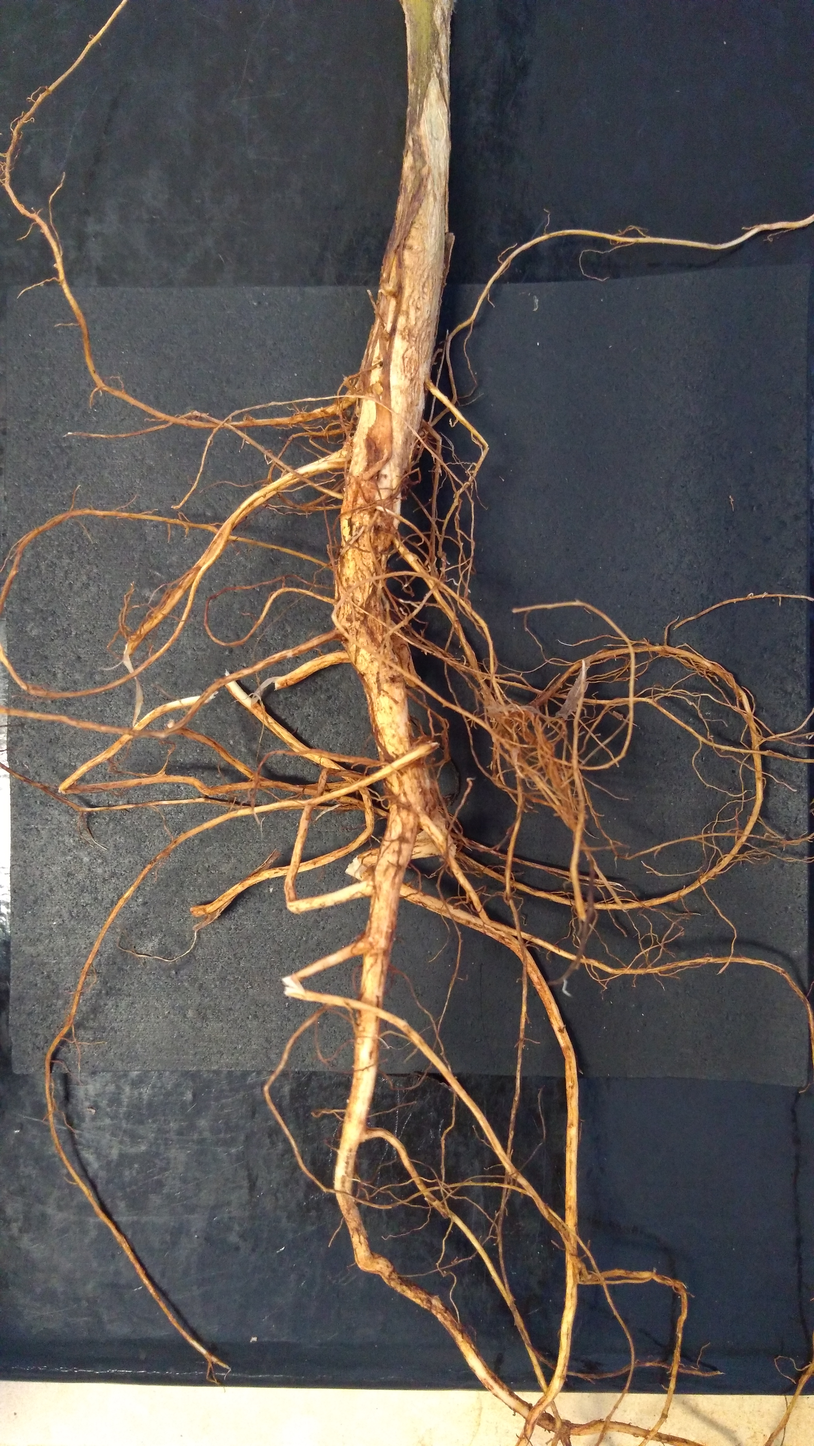nodule: (382, 618, 421, 687), (350, 509, 375, 538), (341, 436, 354, 458), (370, 382, 383, 397), (417, 427, 430, 438), (242, 414, 255, 422), (437, 550, 447, 559)
